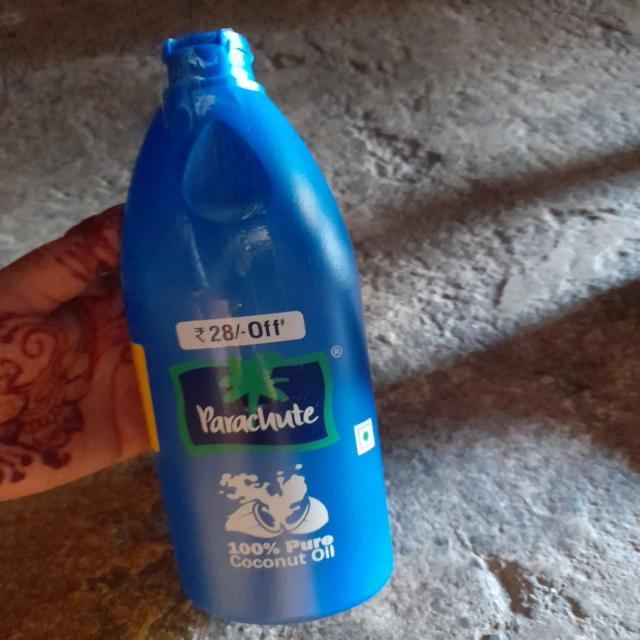parachute_oil: (111, 28, 403, 626)
